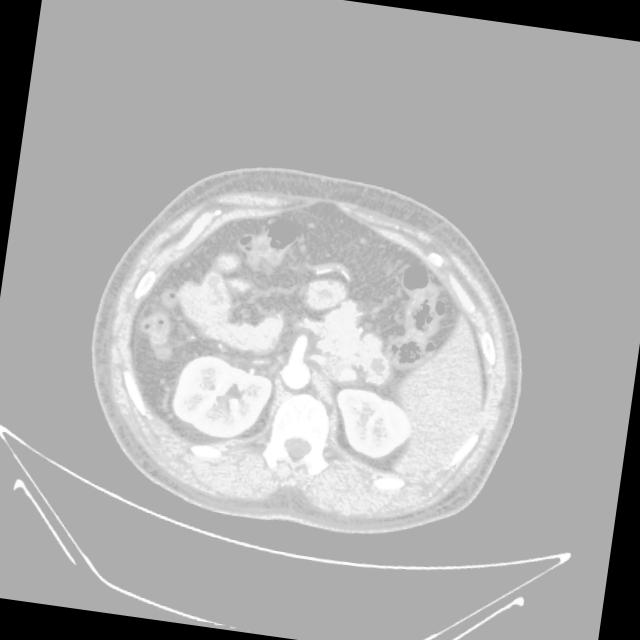NORMAL: (56, 121, 586, 559)
